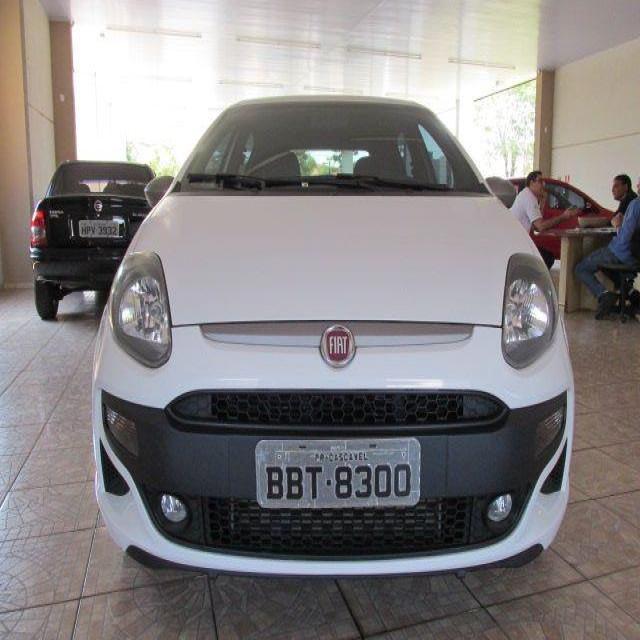Placa: (253, 435, 424, 512), (77, 217, 120, 241)
